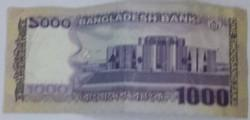1000 taka: (7, 8, 245, 115)
